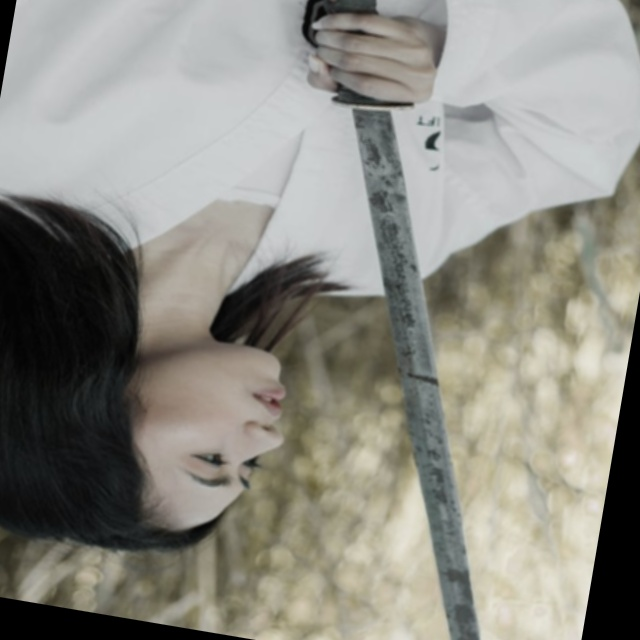Sharp-Object: (188, 0, 639, 640)
